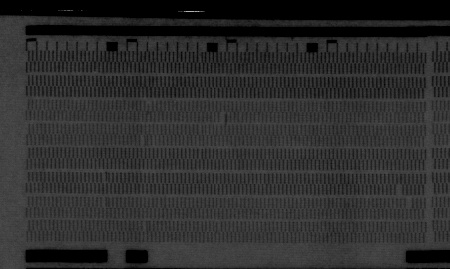Broken hole: (394, 183, 405, 195), (404, 195, 414, 208), (217, 111, 227, 123)
Oblique printing: (143, 100, 155, 113), (99, 171, 110, 185), (99, 196, 110, 210), (138, 134, 148, 148), (140, 220, 152, 230)
